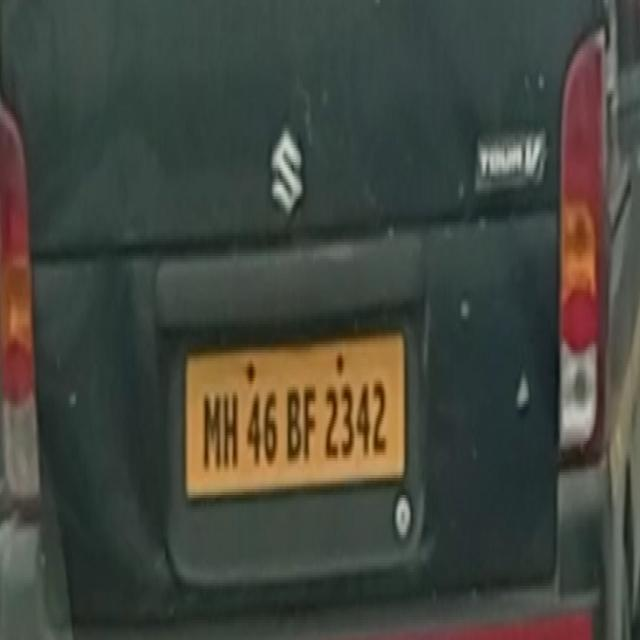license-plate: (181, 324, 406, 498)
